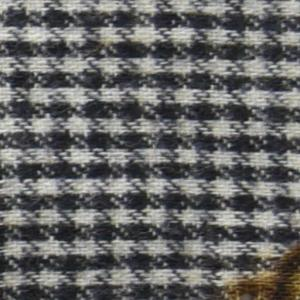Oil Stain: (213, 241, 300, 300)
